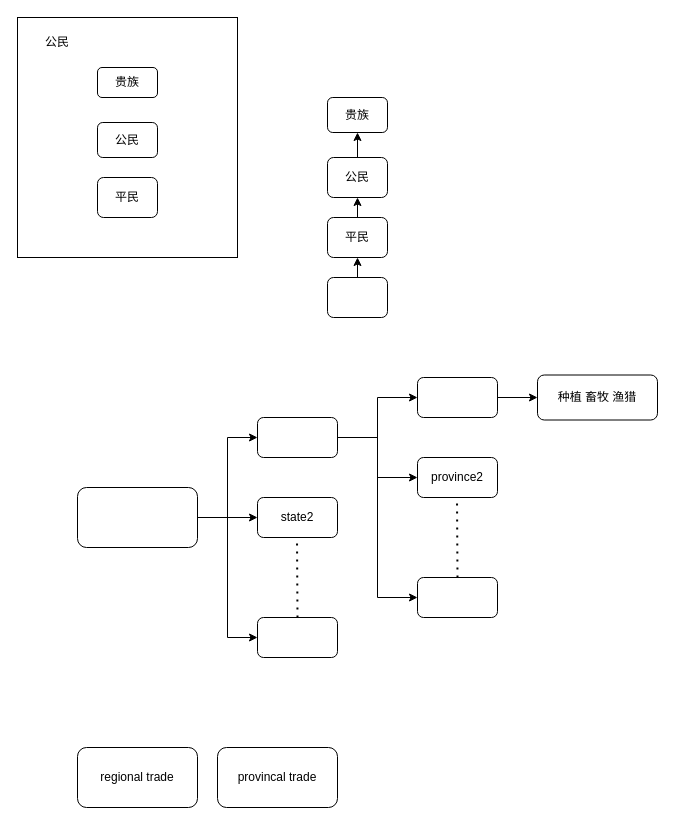
The diagram is 675 pixels wide and 825 high, and some of its shapes have lost their labels. The box of each missing label's shape, as (x1, y1, x2, y2) in pixels:
counrry: (76, 486, 198, 548)
province1: (416, 376, 498, 418)
provinceN: (416, 576, 498, 618)
state1: (256, 416, 338, 458)
stateN: (256, 616, 338, 658)
奴隶: (326, 276, 388, 318)
